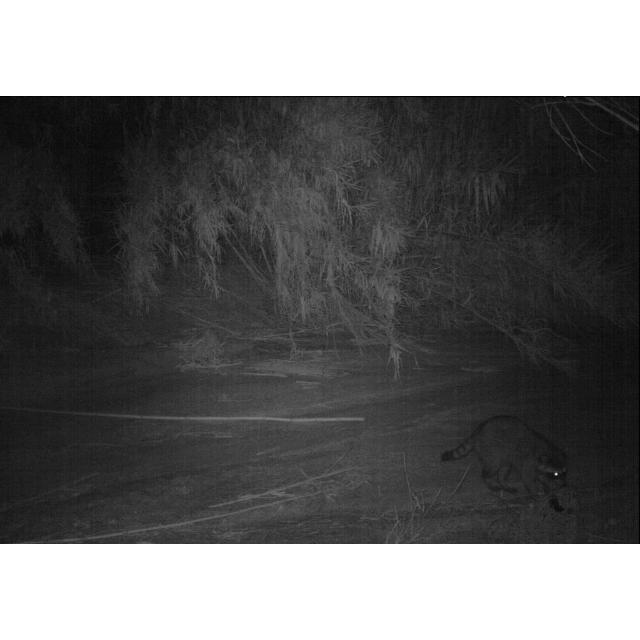animals: (438, 414, 570, 516)
